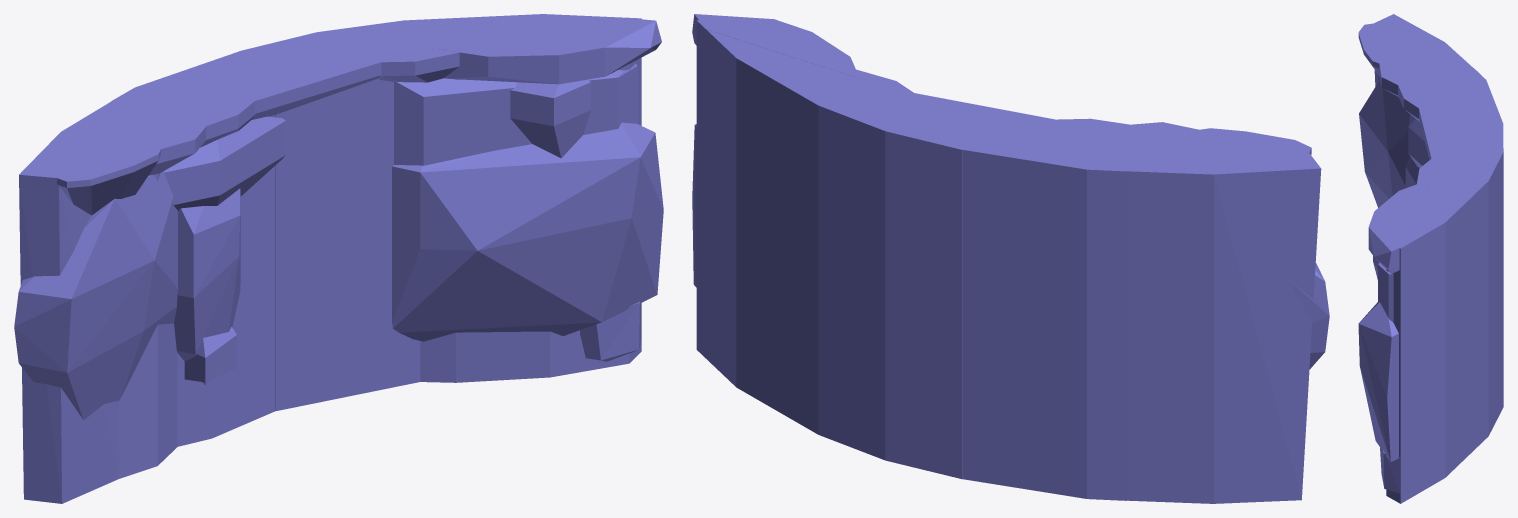
Rendered from Cliff_Wall_In_01_Collider_01.FBX.
The picture shows the model from 3 angles, left to right: view 1: azimuth 30°, elevation 25°; view 2: azimuth 150°, elevation 25°; view 3: azimuth 270°, elevation 25°; orthographic projection. The views are drawn at different scales.
Parts seen in each view (by area): view 1: COLLIDER6, COLLIDER1, COLLIDER9, COLLIDER2, COLLIDER4, COLLIDER5, COLLIDER19, COLLIDER10, COLLIDER3, COLLIDER8, COLLIDER20, COLLIDER11 (+7 smaller); view 2: COLLIDER2, COLLIDER1, COLLIDER5, COLLIDER4, COLLIDER3, COLLIDER10, COLLIDER11, COLLIDER14, COLLIDER9, COLLIDER12, COLLIDER15, COLLIDER13; view 3: COLLIDER5, COLLIDER1, COLLIDER6, COLLIDER9, COLLIDER10, COLLIDER2, COLLIDER11, COLLIDER4, COLLIDER14, COLLIDER3, COLLIDER12, COLLIDER13 (+5 smaller).
Part boxes in pixels (bbox=[...]): COLLIDER6: bbox=[392, 122, 663, 341]; COLLIDER1: bbox=[239, 20, 420, 410]; COLLIDER9: bbox=[14, 171, 177, 420]; COLLIDER2: bbox=[111, 51, 275, 446]; COLLIDER4: bbox=[19, 132, 118, 503]; COLLIDER5: bbox=[403, 14, 641, 382]; COLLIDER19: bbox=[394, 63, 637, 165]; COLLIDER10: bbox=[439, 17, 661, 84]; COLLIDER3: bbox=[61, 101, 177, 478]; COLLIDER8: bbox=[174, 188, 240, 385]; COLLIDER20: bbox=[164, 116, 285, 210]; COLLIDER11: bbox=[57, 132, 168, 215]; COLLIDER2: bbox=[961, 123, 1126, 500]; COLLIDER1: bbox=[818, 92, 994, 478]; COLLIDER5: bbox=[696, 20, 867, 434]; COLLIDER4: bbox=[1213, 146, 1321, 503]; COLLIDER3: bbox=[1122, 145, 1213, 503]; COLLIDER10: bbox=[692, 14, 859, 78]; COLLIDER11: bbox=[1161, 128, 1311, 161]; COLLIDER14: bbox=[890, 93, 1054, 126]; COLLIDER9: bbox=[1287, 262, 1329, 369]; COLLIDER12: bbox=[1099, 122, 1198, 146]; COLLIDER15: bbox=[853, 69, 914, 107]; COLLIDER13: bbox=[1030, 118, 1138, 147]; COLLIDER5: bbox=[1386, 175, 1488, 503]; COLLIDER1: bbox=[1451, 123, 1503, 435]; COLLIDER6: bbox=[1358, 302, 1398, 461]; COLLIDER9: bbox=[1359, 79, 1410, 207]; COLLIDER10: bbox=[1368, 179, 1429, 273]; COLLIDER2: bbox=[1428, 68, 1502, 123]; COLLIDER11: bbox=[1358, 23, 1427, 75]; COLLIDER4: bbox=[1373, 14, 1444, 86]; COLLIDER14: bbox=[1419, 108, 1460, 160]; COLLIDER3: bbox=[1413, 42, 1473, 78]; COLLIDER12: bbox=[1379, 63, 1435, 96]; COLLIDER13: bbox=[1398, 74, 1440, 121].
Size of the model in its own units: 1343 by 661 by 340.
